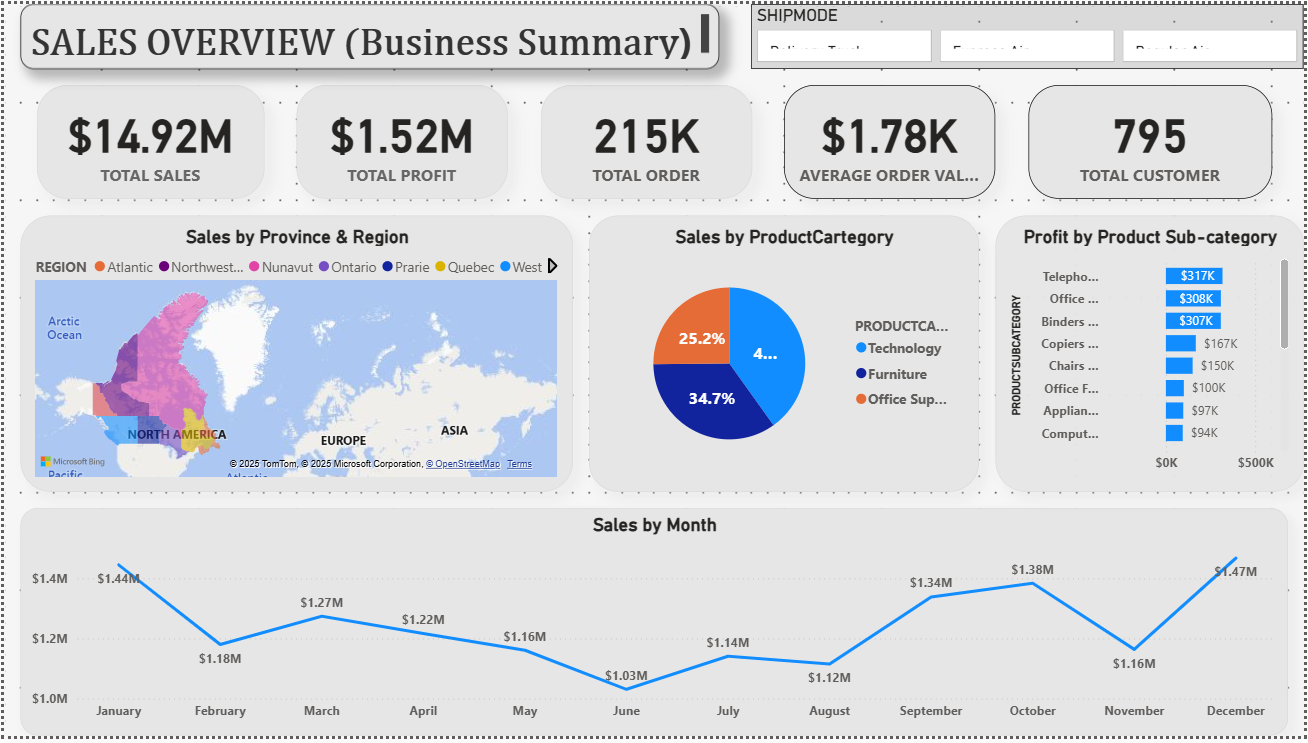

The dashboard page shown, as its layout file describes it:
{"tool":"powerbi","page":{"name":"Business Summary","canvas":[1280,720],"ordinal":0},"visuals":[{"type":"card","fields":{"Values":["Cleaned_Online_Dataset.TOTALSALES"]},"box":[32,80,224,112],"z":0},{"type":"card","fields":{"Values":["Cleaned_Online_Dataset.TOTALPROFIT"]},"box":[288,80,208,112],"z":1000},{"type":"card","fields":{"Values":["Cleaned_Online_Dataset.AOV"]},"box":[768,80,208,112],"z":2000},{"type":"card","fields":{"Values":["Cleaned_Online_Dataset.TOTALORDER"]},"box":[528,80,208,112],"z":3000},{"type":"card","fields":{"Values":["Cleaned_Online_Dataset.TOTAL CUSTOMER"]},"box":[1008,80,240,112],"z":4000},{"type":"filledMap","title":"Sales by Province & Region","fields":{"Category":["Cleaned_Online_Dataset.PROVINCE"],"Series":["Cleaned_Online_Dataset.REGION"]},"box":[16,208,544,272],"z":5000},{"type":"pieChart","title":"Sales by ProductCartegory","fields":{"Y":["Sum(Cleaned_Online_Dataset.SALES)"],"Category":["Cleaned_Online_Dataset.PRODUCTCATEGORY"]},"box":[576,208,384,272],"z":6000},{"type":"lineChart","title":"Sales by Month","fields":{"Category":["Cleaned_Online_Dataset.MONTH"],"Y":["Sum(Cleaned_Online_Dataset.SALES)"]},"box":[16,496,1248,224],"z":7000},{"type":"barChart","title":"Profit by Product Sub-category","fields":{"Category":["Cleaned_Online_Dataset.PRODUCTSUBCATEGORY"],"Y":["Sum(Cleaned_Online_Dataset.PROFIT)"]},"box":[976,208,304,272],"z":8000},{"type":"textbox","box":[16,0,688,64],"z":8001},{"type":"advancedSlicerVisual","fields":{"Values":["Cleaned_Online_Dataset.SHIPMODE"]},"box":[736,0,544,64],"z":8002}]}

Visuals, with their boxes in screenshot pixels (x1, y1, x2, y2), scaled from the page's 1280x720 canvas onto the 1308x743 screenshot:
card - Cleaned_Online_Dataset.TOTALSALES: {"x1": 33, "y1": 83, "x2": 262, "y2": 198}
card - Cleaned_Online_Dataset.TOTALPROFIT: {"x1": 294, "y1": 83, "x2": 507, "y2": 198}
card - Cleaned_Online_Dataset.AOV: {"x1": 785, "y1": 83, "x2": 997, "y2": 198}
card - Cleaned_Online_Dataset.TOTALORDER: {"x1": 540, "y1": 83, "x2": 752, "y2": 198}
card - Cleaned_Online_Dataset.TOTAL CUSTOMER: {"x1": 1030, "y1": 83, "x2": 1275, "y2": 198}
"Sales by Province & Region" filledMap: {"x1": 16, "y1": 215, "x2": 572, "y2": 495}
"Sales by ProductCartegory" pieChart: {"x1": 589, "y1": 215, "x2": 981, "y2": 495}
"Sales by Month" lineChart: {"x1": 16, "y1": 512, "x2": 1292, "y2": 742}
"Profit by Product Sub-category" barChart: {"x1": 997, "y1": 215, "x2": 1307, "y2": 495}
textbox: {"x1": 16, "y1": 0, "x2": 719, "y2": 66}
advancedSlicerVisual - Cleaned_Online_Dataset.SHIPMODE: {"x1": 752, "y1": 0, "x2": 1307, "y2": 66}
